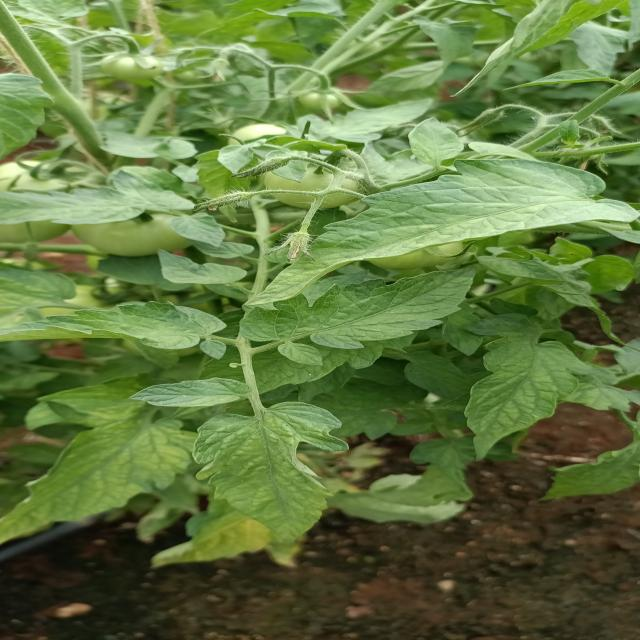Healthy Leaf: (239, 153, 640, 313), (182, 412, 390, 562), (225, 266, 493, 370), (425, 337, 587, 469), (29, 309, 264, 370), (143, 375, 273, 415), (490, 364, 492, 374)
